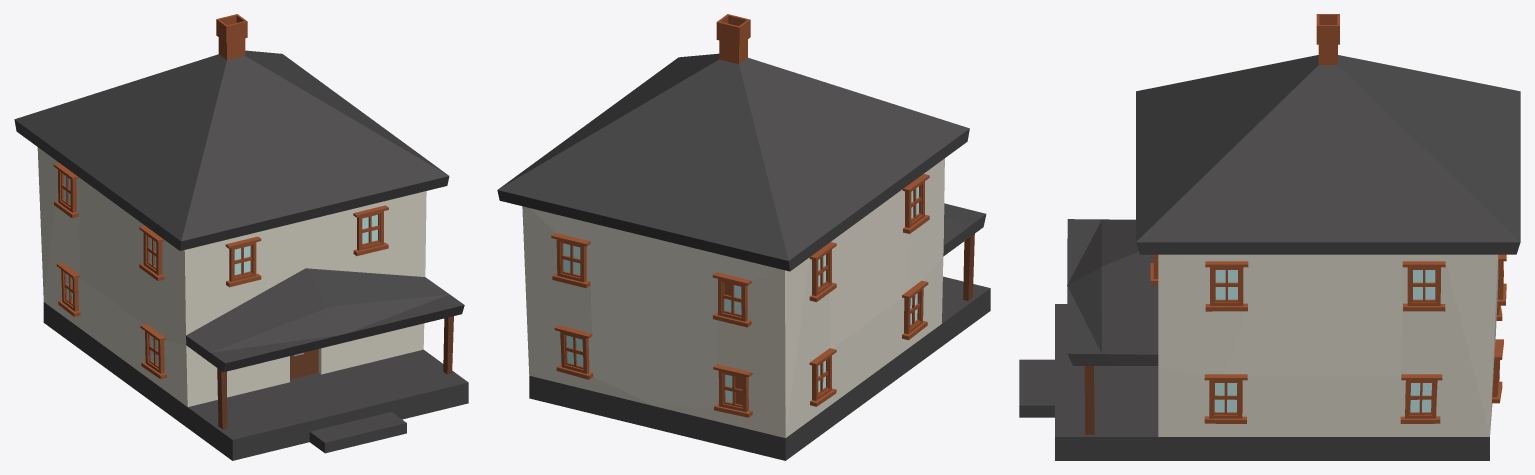
Rendered from House.glb.
3 renders of one model, left to right at view 1: azimuth 30°, elevation 25°; view 2: azimuth 150°, elevation 25°; view 3: azimuth 270°, elevation 25°, orthographic. The views are drawn at different scales.
Visible parts, largest first — view 1: House1; view 2: House1; view 3: House1.
Part boxes in pixels (<box>): House1: <box>14,14,468,460</box>; House1: <box>497,14,990,460</box>; House1: <box>1019,14,1520,460</box>.
Bounding box in the file's own units: 1.22 × 1.42 × 1.72.
